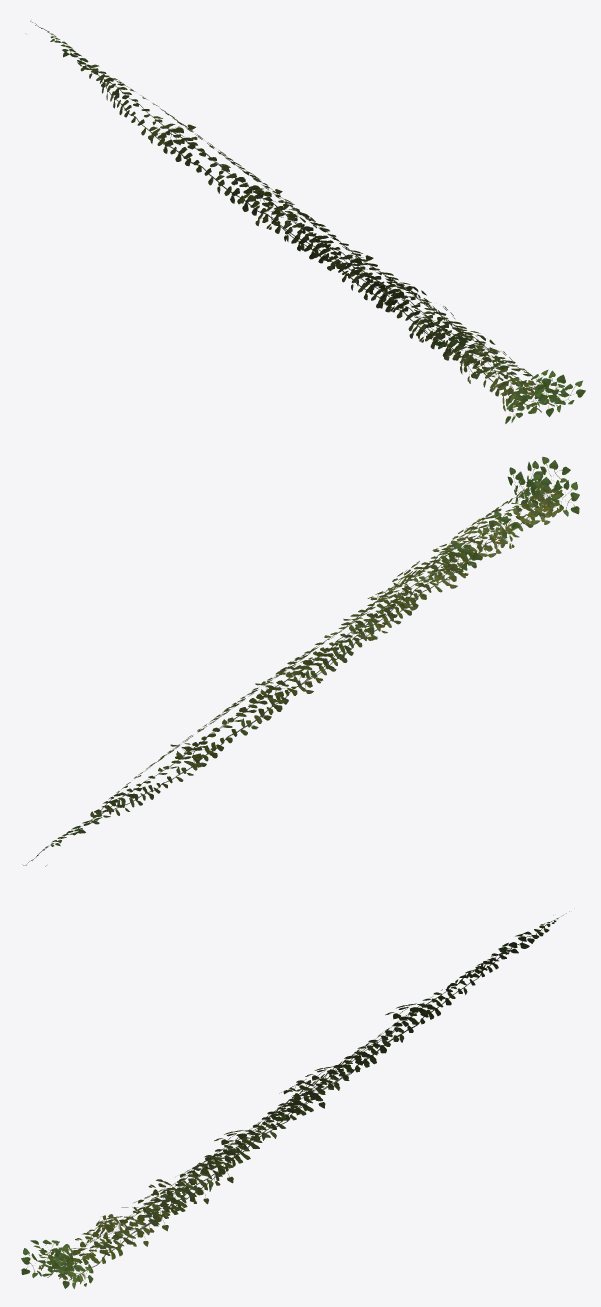
Rendered from vine03_wall_painting.dae.
3 views of the same model, one above another, from view 1: azimuth 30°, elevation 25°; view 2: azimuth 150°, elevation 25°; view 3: azimuth 330°, elevation 25° (orthographic). The views are drawn at different scales.
Parts seen in each view (by area): view 1: vine03_wall_paint_a150, vine03_wall_paint_a80; view 2: vine03_wall_paint_a150, vine03_wall_paint_a80; view 3: vine03_wall_paint_a150, vine03_wall_paint_a80.
Boxes of the visible parts, <box> form: vine03_wall_paint_a150: <box>143,108,585,423</box>; vine03_wall_paint_a80: <box>25,21,565,413</box>; vine03_wall_paint_a150: <box>146,460,579,781</box>; vine03_wall_paint_a80: <box>22,457,570,866</box>; vine03_wall_paint_a150: <box>21,992,455,1288</box>; vine03_wall_paint_a80: <box>30,911,569,1284</box>.
Size of the model in its own units: 1.02 by 11.22 by 0.6429.
